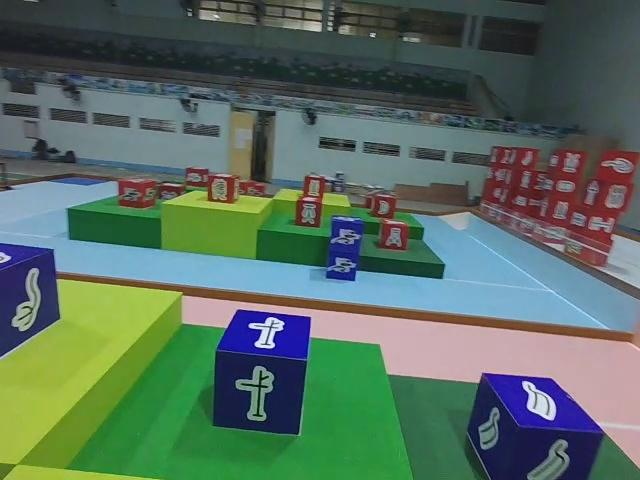R2 Real Blue: (467, 375, 605, 480), (215, 310, 313, 439), (0, 241, 59, 364)
